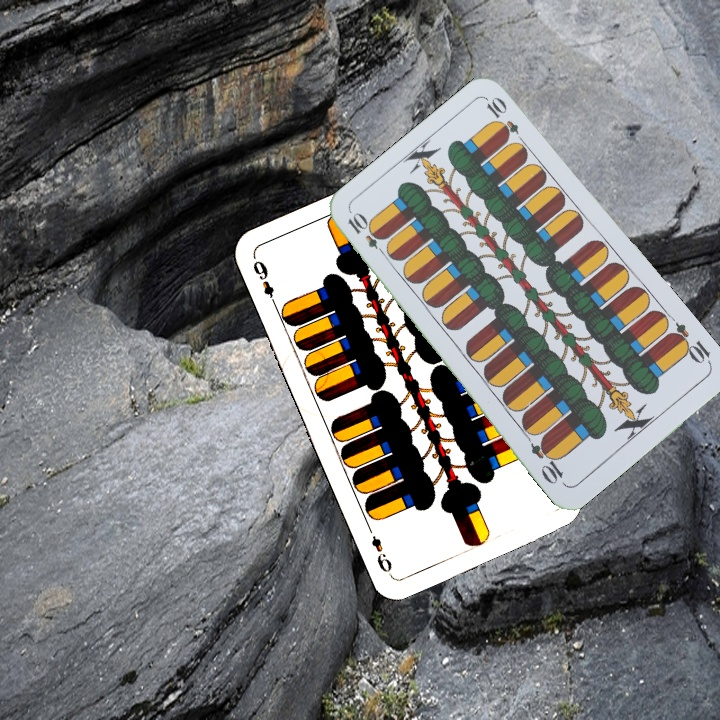E10: (664, 318, 714, 368), (343, 209, 391, 260)
E9: (248, 254, 280, 310)
